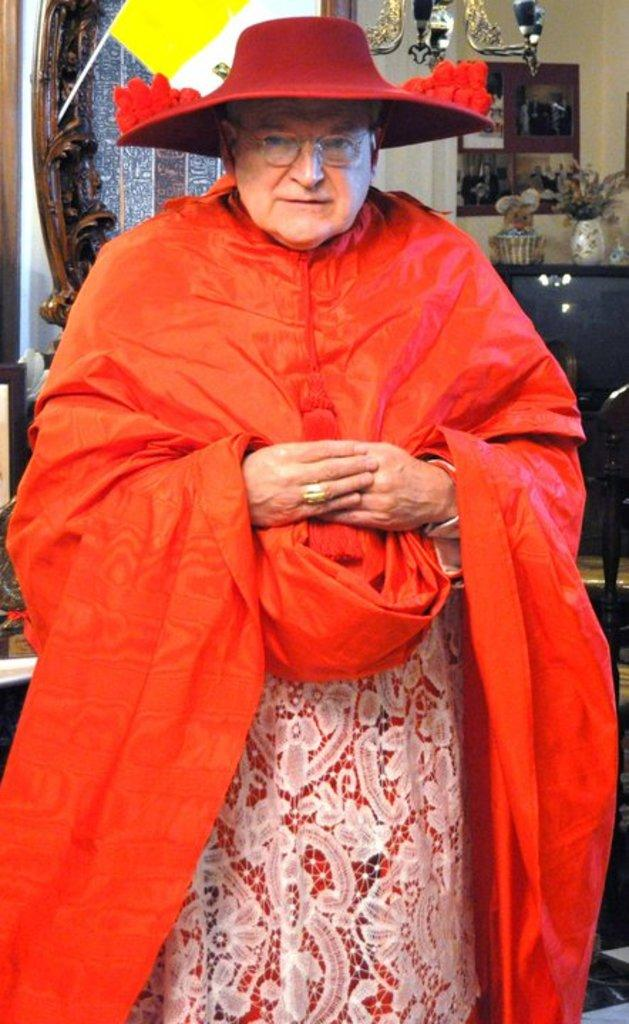Hat: (113, 16, 493, 158)
